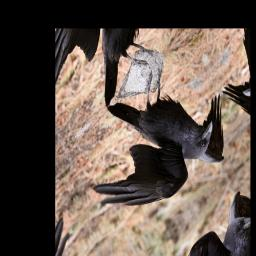Crow: (70, 31, 243, 256)
